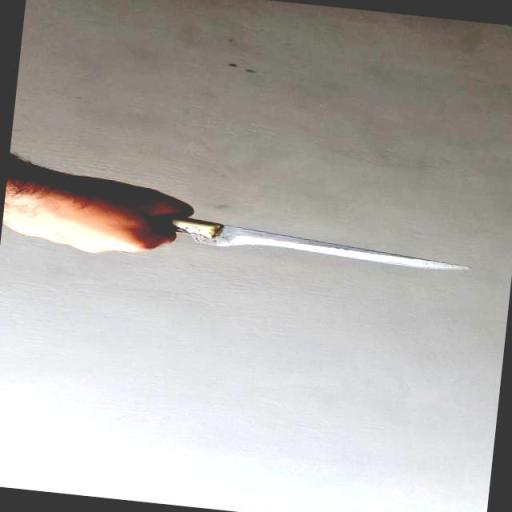knife: (108, 202, 481, 281)
